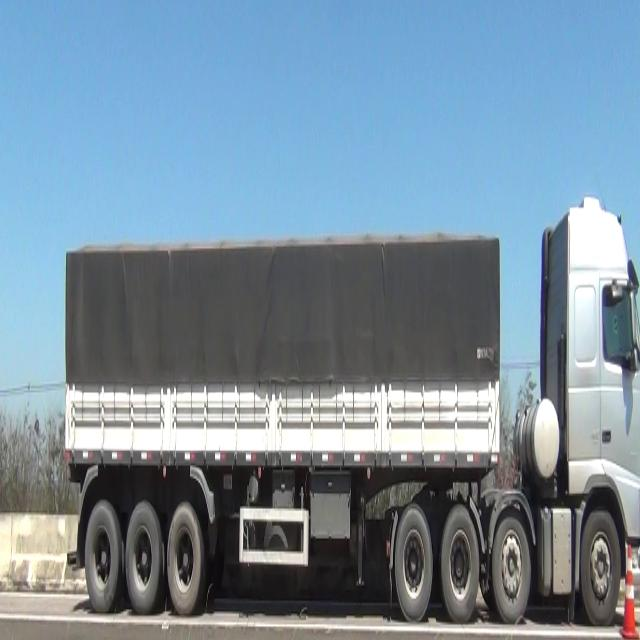-axle: (580, 511, 622, 623), (125, 500, 164, 618), (442, 502, 479, 626), (395, 504, 433, 624), (492, 509, 531, 620), (167, 505, 204, 615), (86, 500, 122, 612)
